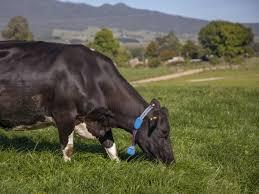cow: (0, 41, 174, 167)
